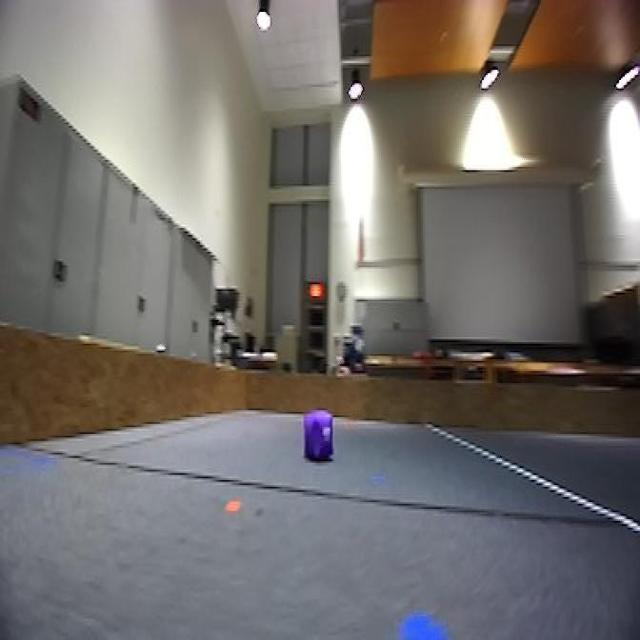frc_cube: (302, 408, 335, 464)
